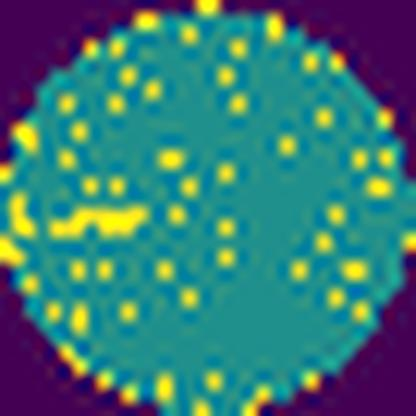Scratch: (44, 202, 159, 247)
